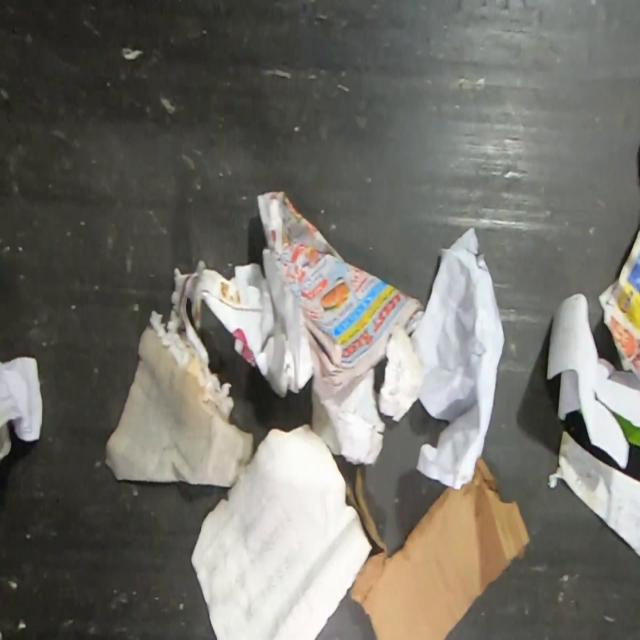cardboard: (344, 453, 531, 640), (545, 291, 640, 471)
